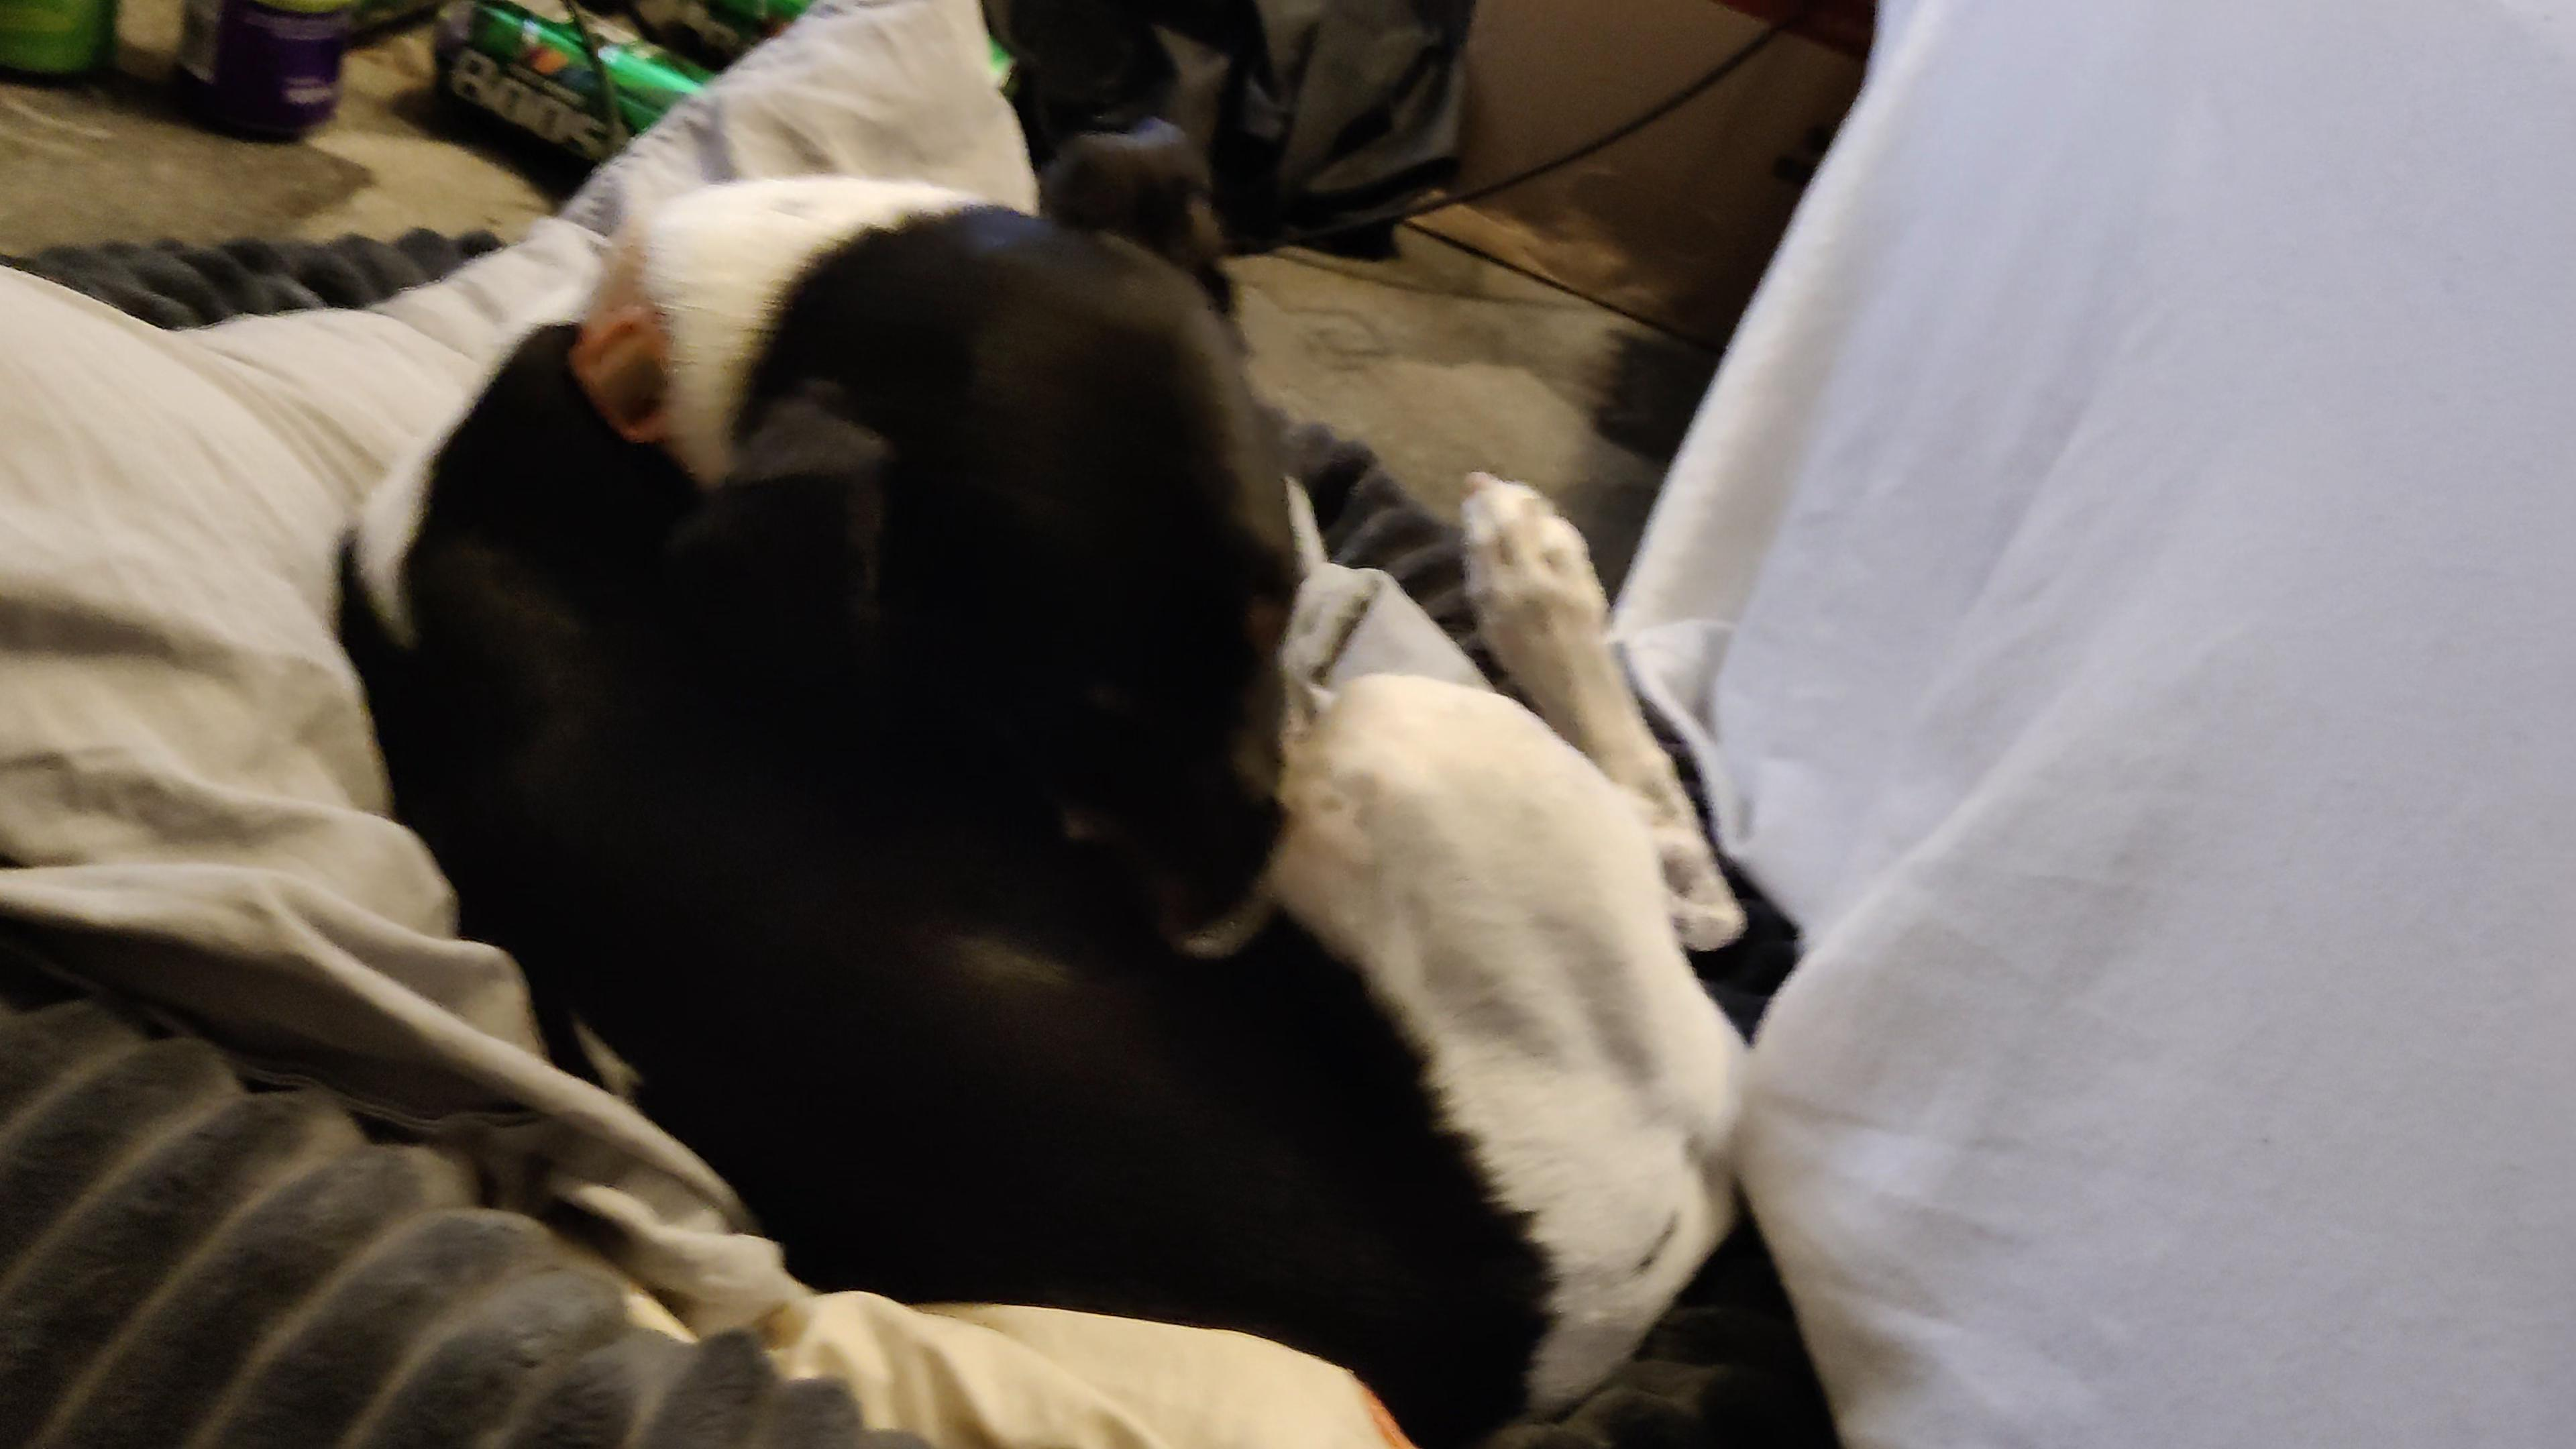Dog: (326, 103, 1798, 1442)
